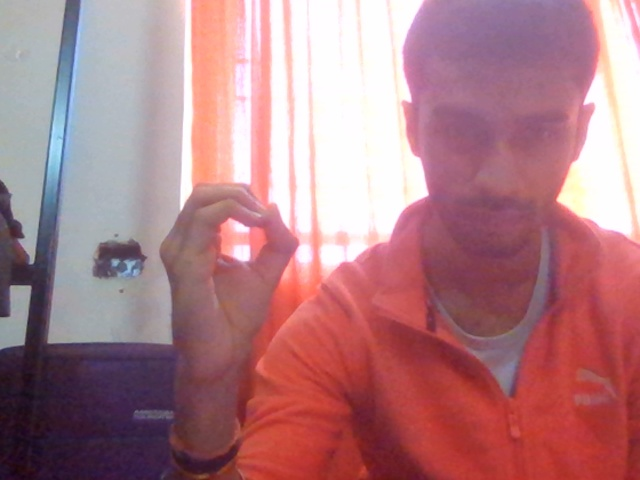O: (135, 145, 383, 459)
